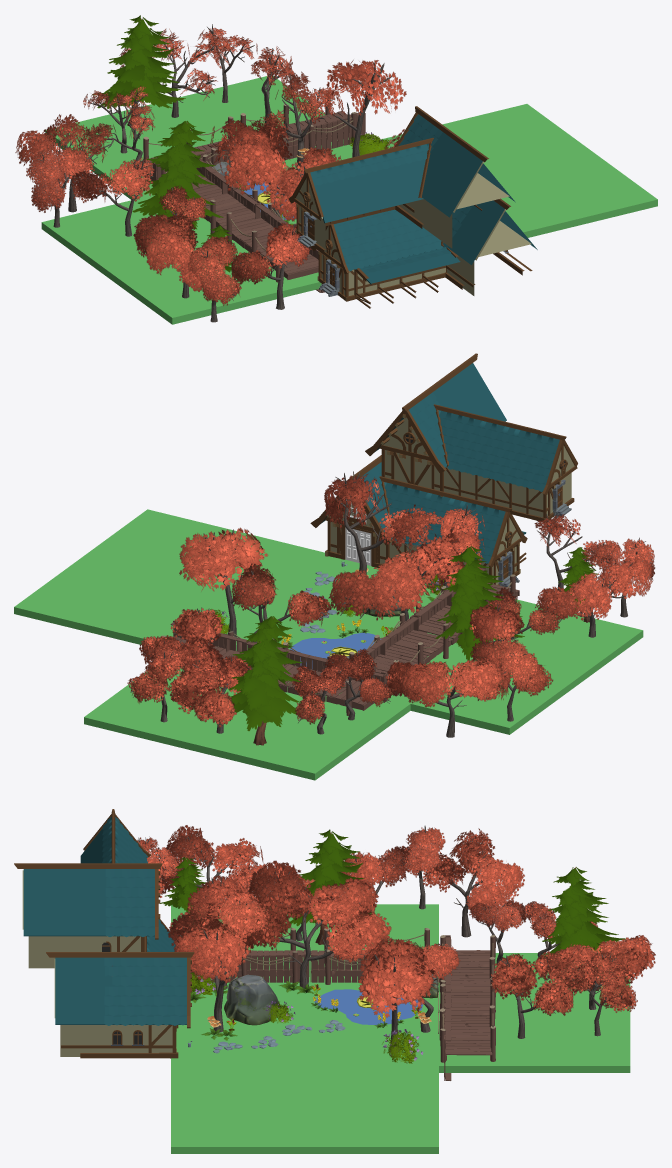
File: outdoors_merged_biggerhouse.glb
3 renders of one model, top to bottom at view 1: azimuth 30°, elevation 25°; view 2: azimuth 150°, elevation 25°; view 3: azimuth 270°, elevation 25°, orthographic. The views are drawn at different scales.
Parts seen in each view (by area): view 1: Ground.001, MapleTree_2.001, Stable, Dock_Long.001, Pine_5, MapleTree_5.002, Bush_Common_Flowers.002; view 2: Ground.001, MapleTree_2.001, Stable, Pine_5, Dock_Long.001, MapleTree_5.002; view 3: Ground.001, MapleTree_2.001, Stable, Dock_Long.001, Pine_5, Rock_Medium_3, MapleTree_5.002, Bush_Common_Flowers.002, rocks.001, Fern_1.009.
Part boxes in pixels (<box>): Ground.001: <box>41,76,657,324</box>; MapleTree_2.001: <box>15,24,406,322</box>; Stable: <box>288,106,537,308</box>; Dock_Long.001: <box>133,98,365,292</box>; Pine_5: <box>92,15,231,296</box>; MapleTree_5.002: <box>26,147,94,227</box>; Bush_Common_Flowers.002: <box>239,132,390,190</box>; Ground.001: <box>14,509,643,780</box>; MapleTree_2.001: <box>127,471,655,737</box>; Stable: <box>310,353,577,587</box>; Pine_5: <box>228,545,597,745</box>; Dock_Long.001: <box>154,567,519,715</box>; MapleTree_5.002: <box>470,640,553,721</box>; Ground.001: <box>171,904,630,1153</box>; MapleTree_2.001: <box>137,825,655,1052</box>; Stable: <box>14,809,194,1058</box>; Dock_Long.001: <box>191,928,495,1080</box>; Pine_5: <box>160,829,625,990</box>; Rock_Medium_3: <box>224,974,438,1025</box>; MapleTree_5.002: <box>390,825,445,909</box>; Bush_Common_Flowers.002: <box>190,972,423,1063</box>; rocks.001: <box>213,1020,345,1053</box>; Fern_1.009: <box>190,980,403,1040</box>.
Bounding box in the file's own units: 31.49 × 10.18 × 33.64.
39 materials, 14 textured.
